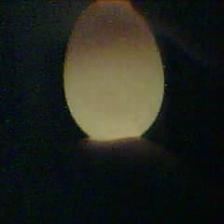infertile: (60, 0, 167, 141)
